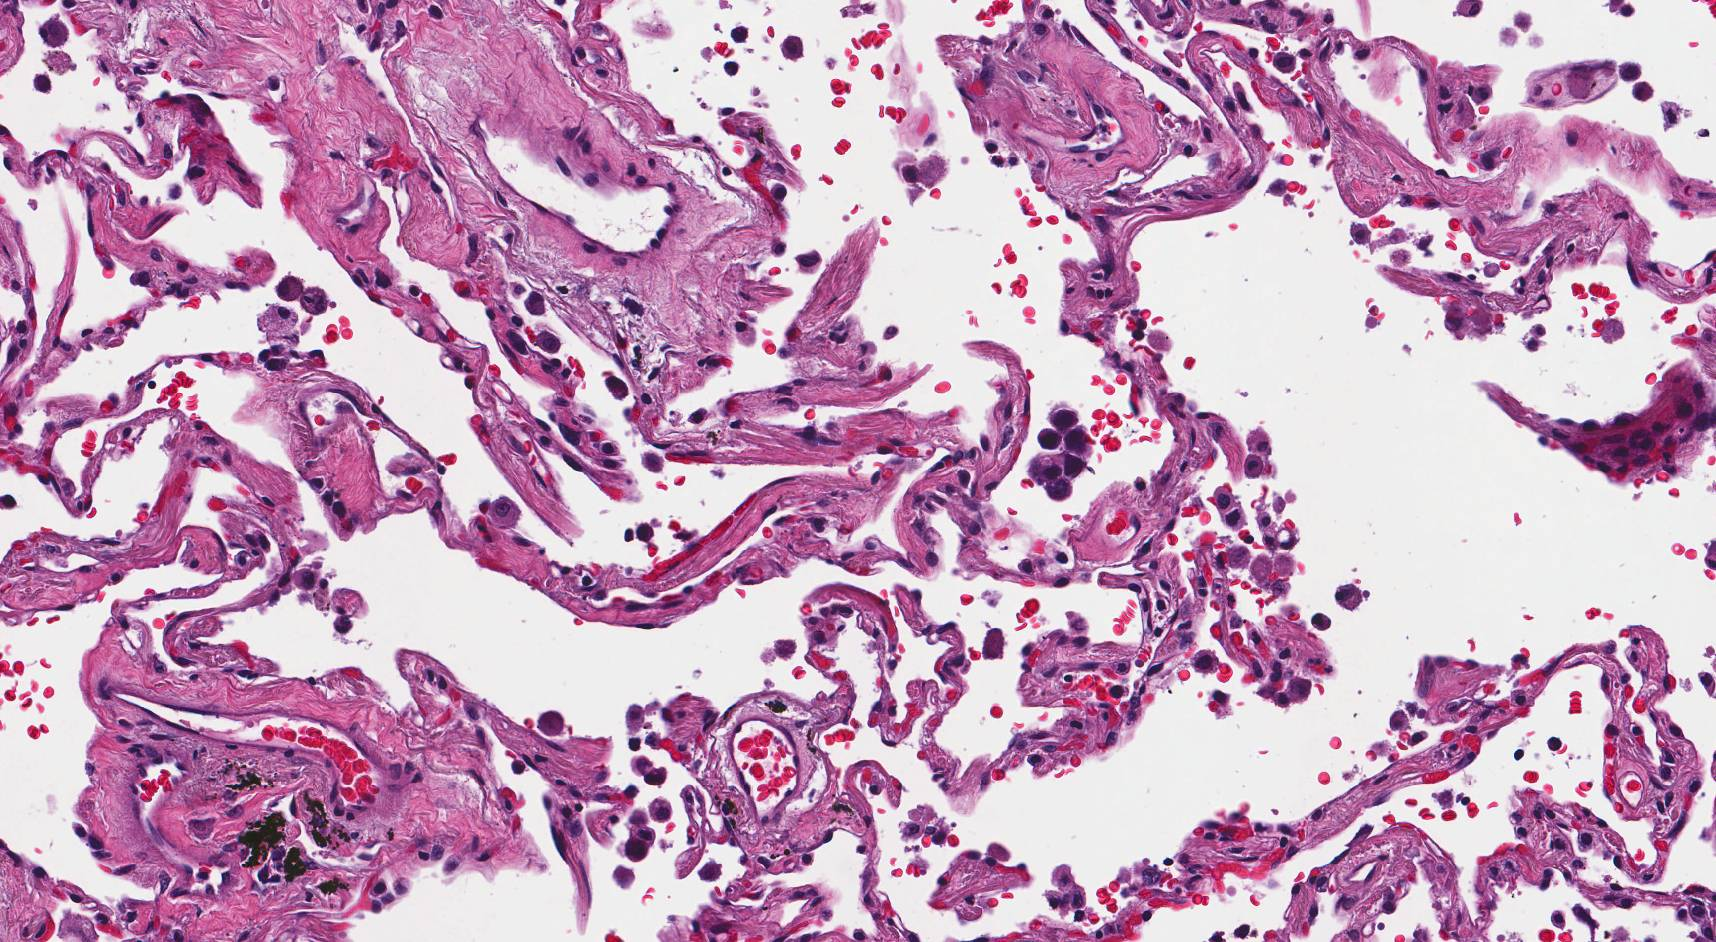stas: (1027, 406, 1093, 501)
